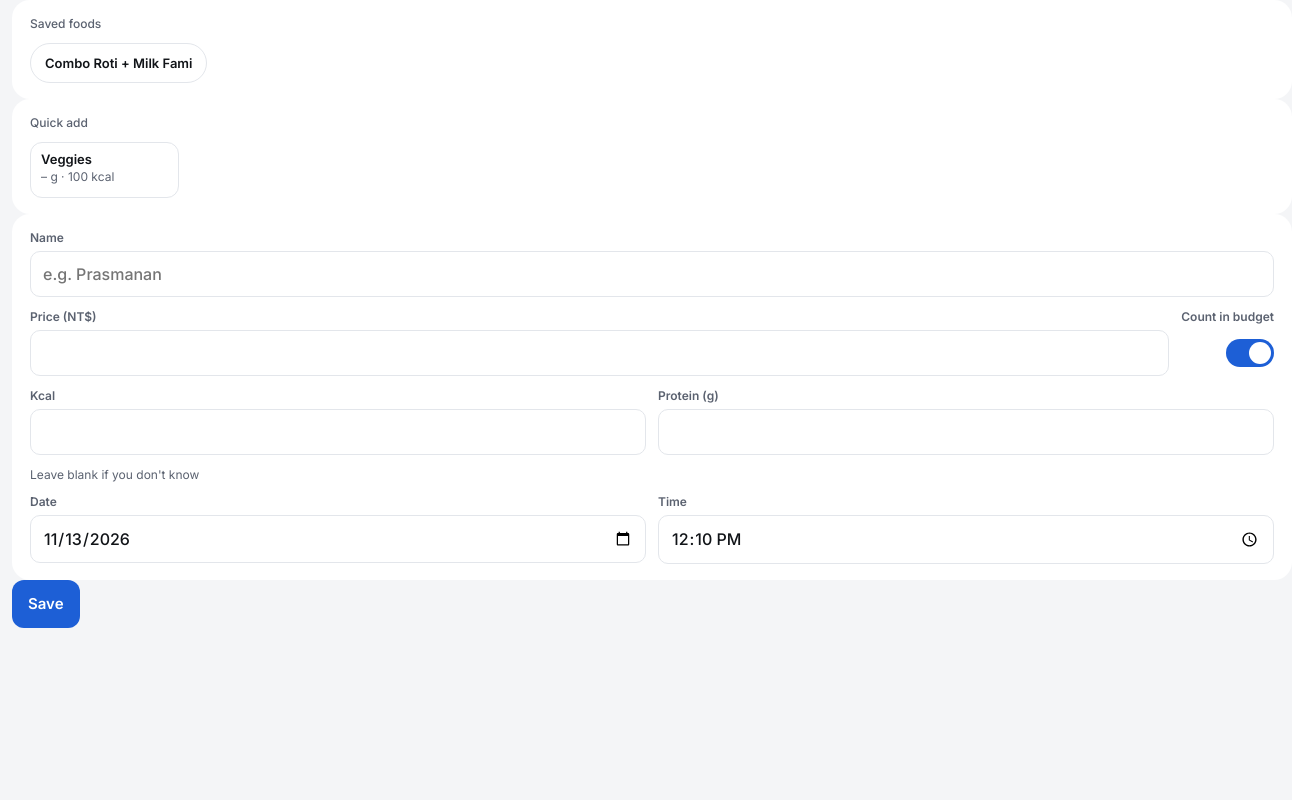
Scenario: a quick-add item without a protein value leaves protein blank
Click the button "Veggies – g · 100 kcal" at (104, 170), box x1=30 y1=142 x2=178 y2=198
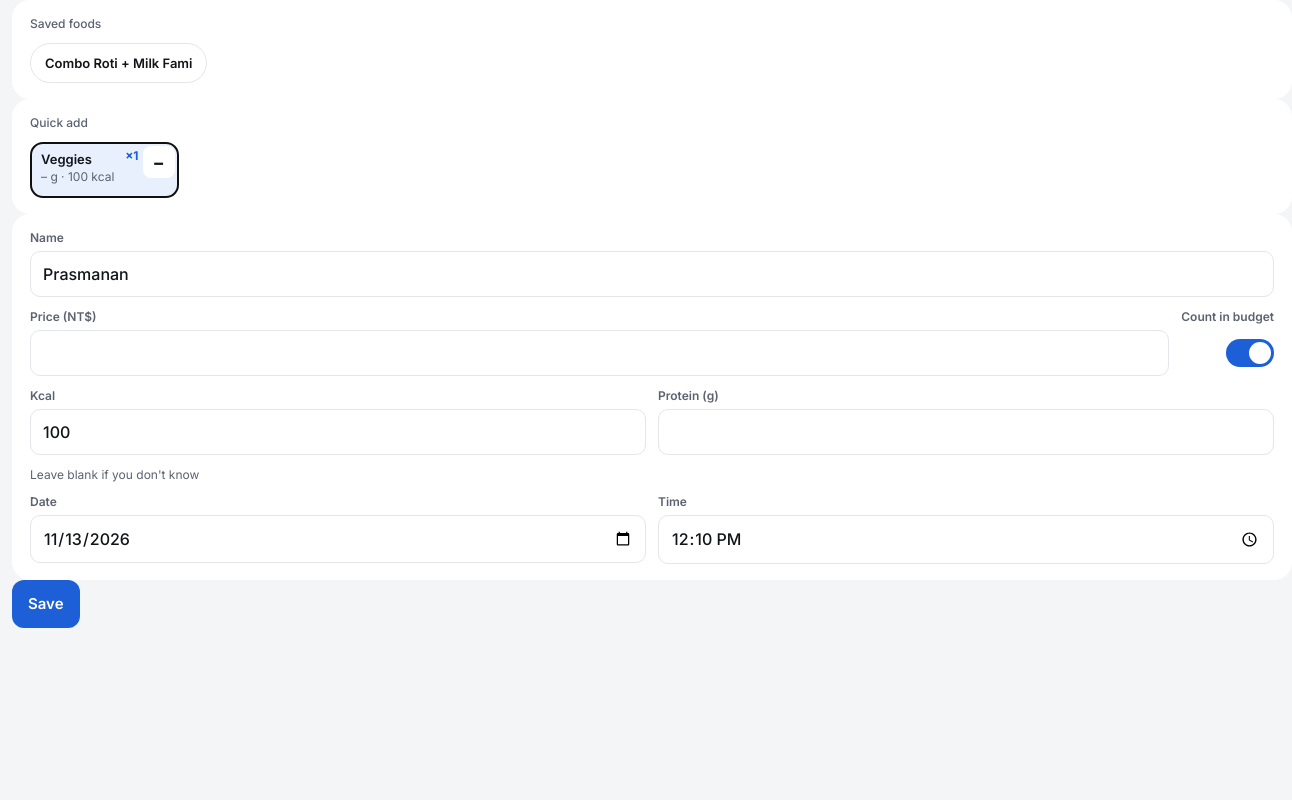
Expected: the field labelled "Protein (g)" is empty, x1=658 y1=409 x2=1274 y2=455
Now the field labelled "Kcal" holds "100", box x1=30 y1=409 x2=646 y2=455
